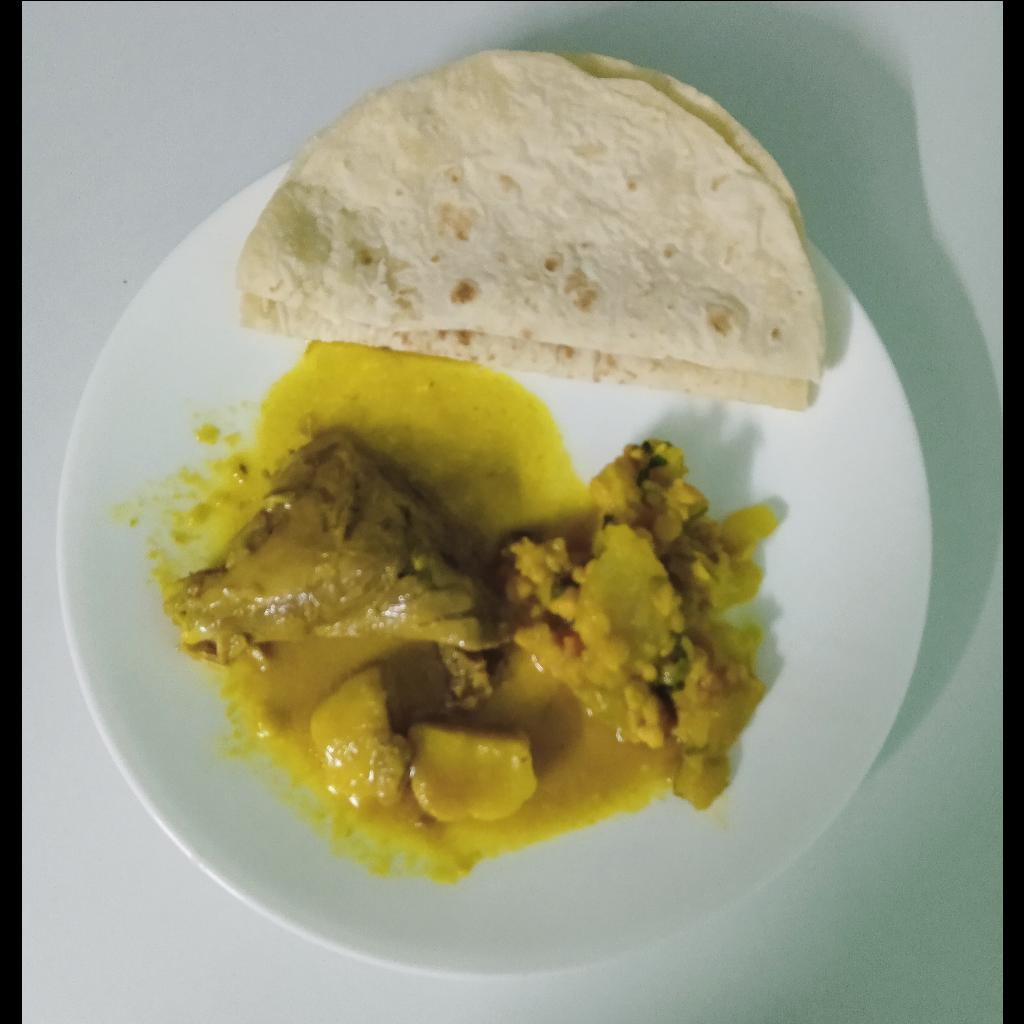chicken: (171, 423, 507, 710)
potato: (305, 664, 540, 824)
ruti: (228, 47, 824, 415)
vegetable: (507, 432, 774, 799)
